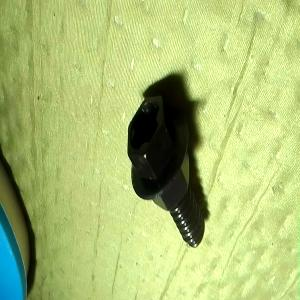parafuso: (126, 96, 206, 248)
